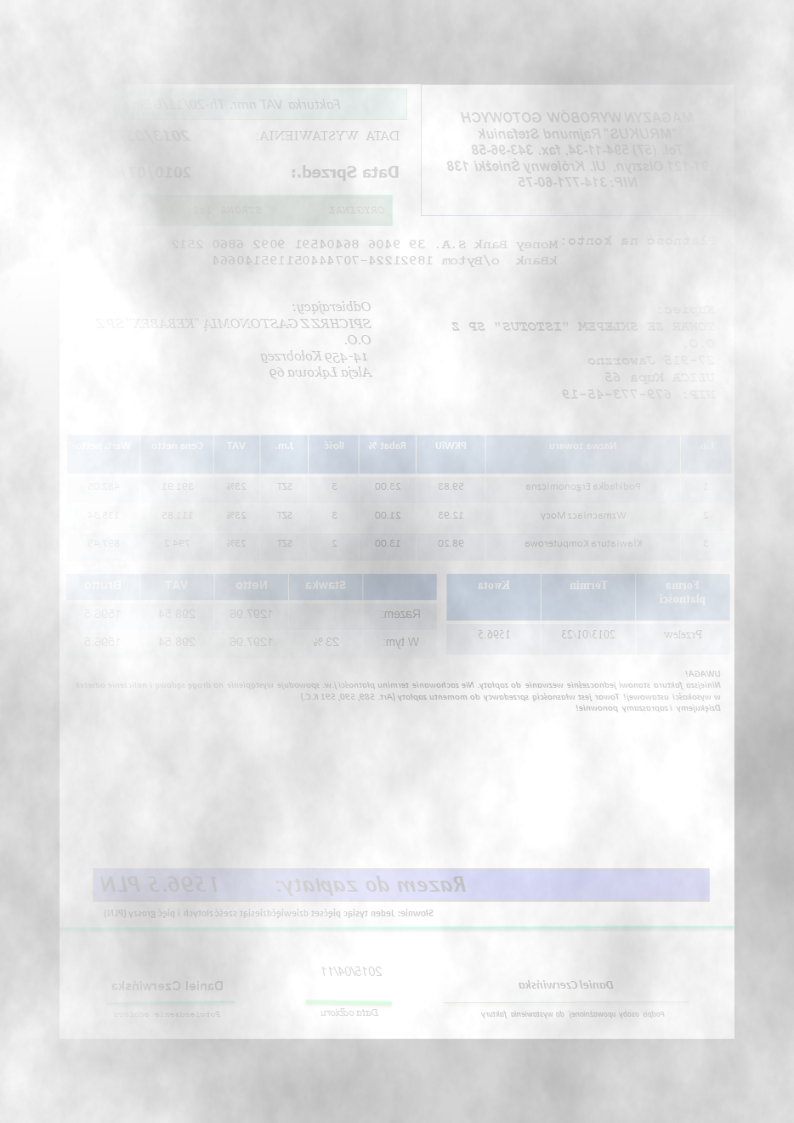Table: (62, 433, 734, 565), (65, 570, 438, 663), (445, 571, 731, 656)
TextBox: (73, 666, 726, 717), (448, 303, 719, 402), (93, 298, 375, 382), (440, 109, 714, 193), (169, 236, 559, 267), (97, 870, 472, 898), (101, 904, 438, 920), (128, 95, 345, 115), (190, 200, 386, 218), (253, 125, 403, 146), (479, 1007, 668, 1022), (558, 231, 721, 248), (289, 162, 402, 182), (98, 162, 196, 183), (110, 978, 227, 995), (95, 126, 197, 145), (111, 1007, 225, 1019), (517, 977, 617, 990), (320, 963, 386, 978), (318, 1006, 381, 1018)
